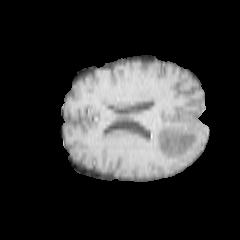glioma: (144, 127, 200, 158)
